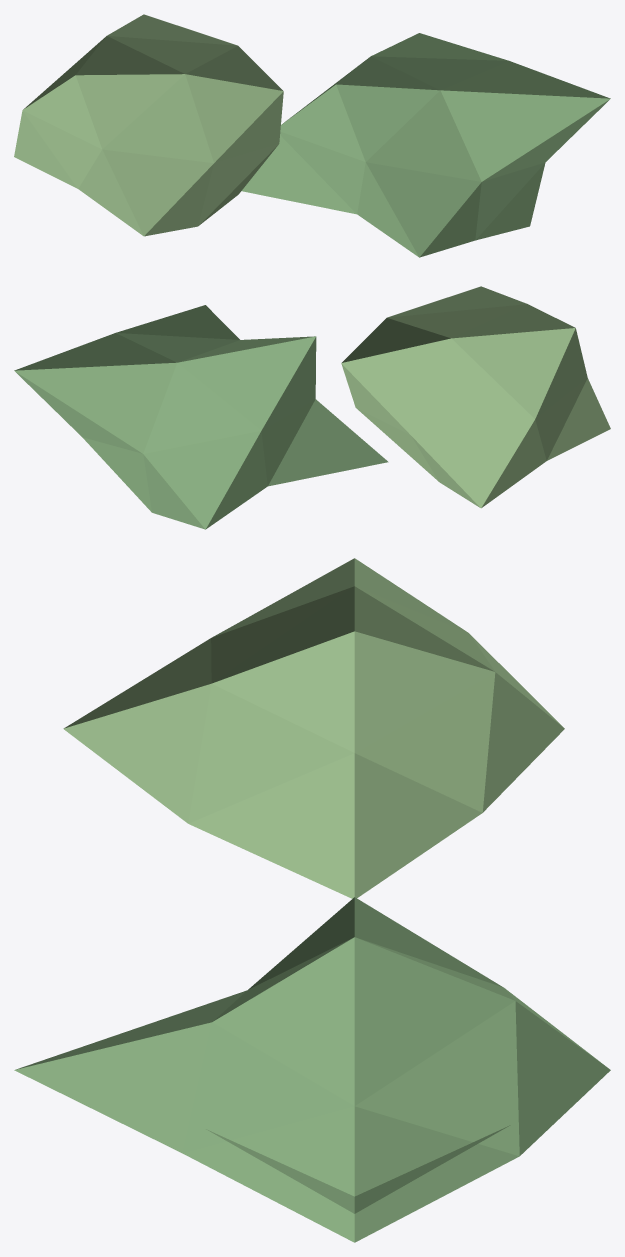
File: shrub_v27.glb
3 renders of one model, top to bottom at view 1: azimuth 30°, elevation 25°; view 2: azimuth 150°, elevation 25°; view 3: azimuth 270°, elevation 25°, orthographic. The views are drawn at different scales.
Parts seen in each view (by area): view 1: lod0; view 2: lod0; view 3: lod0.
Boxes of the visible parts, x1,y1,x2,y2 form: lod0: (14,14,610,257); lod0: (14,286,610,529); lod0: (14,558,610,1242).
Size of what is drawn, in the model's own units: 1.43 by 0.711 by 0.8049.
